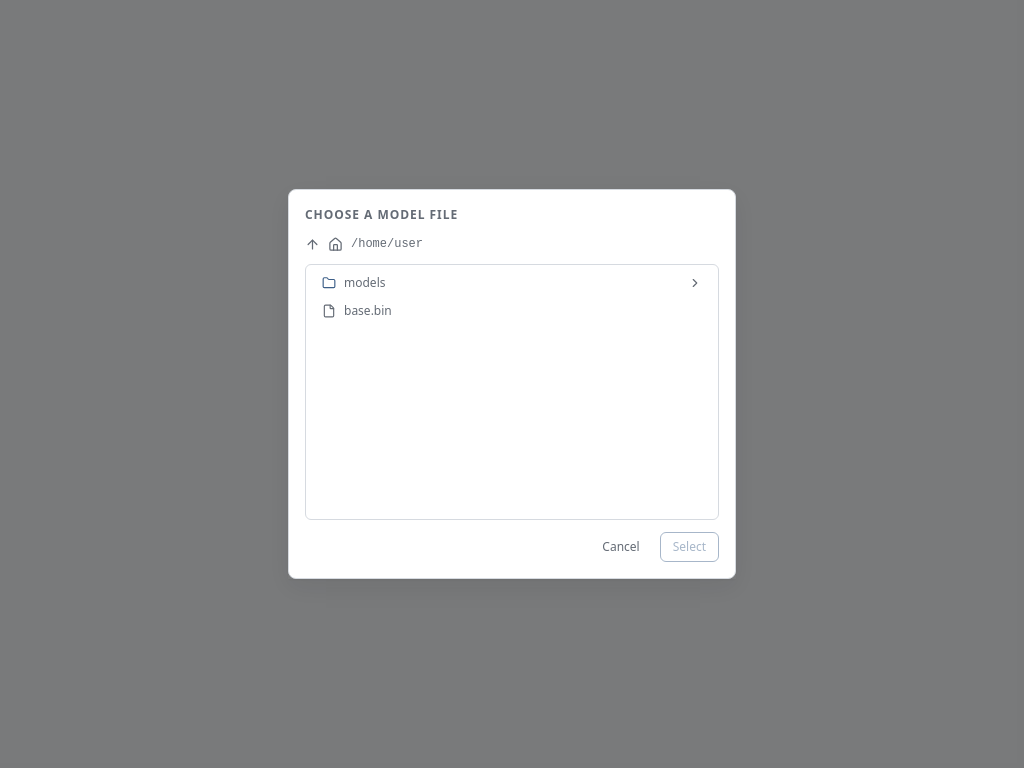
Test: FilePicker › returns to the home directory with the Home button
Click the button "models". click: (365, 282)
box: [310,269,714,297]
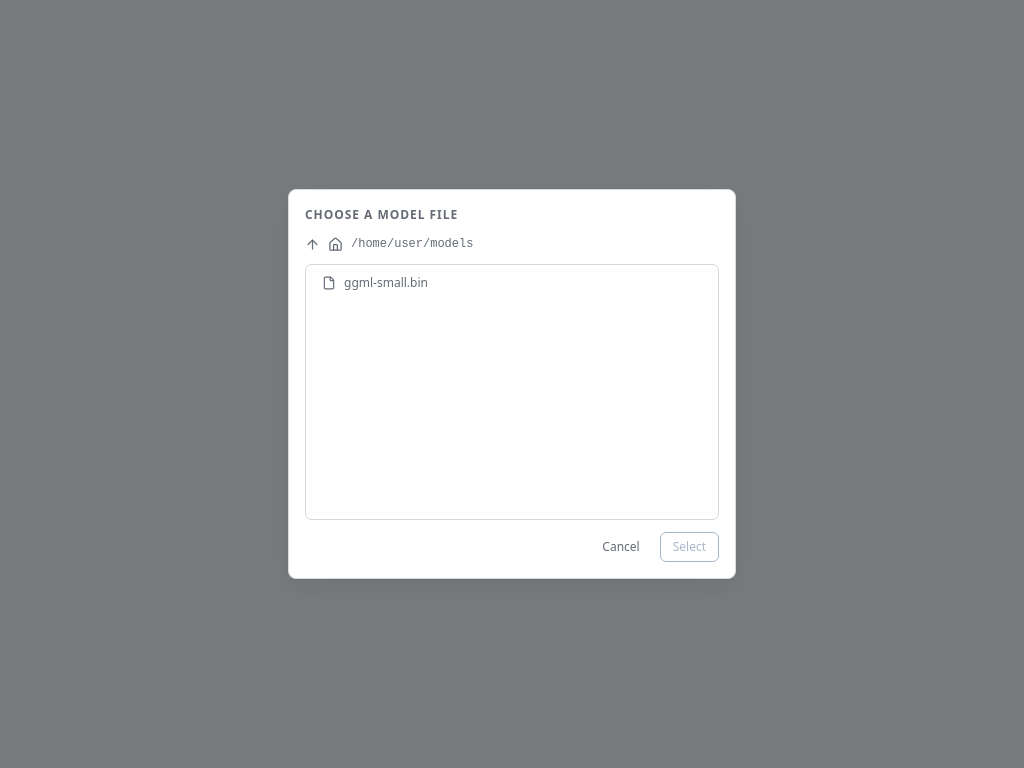
Check: the button "ggml-small.bin" is shown, box [310,269,714,297]
Click the button named "Home folder". click: (336, 244)
box: [328,236,343,252]
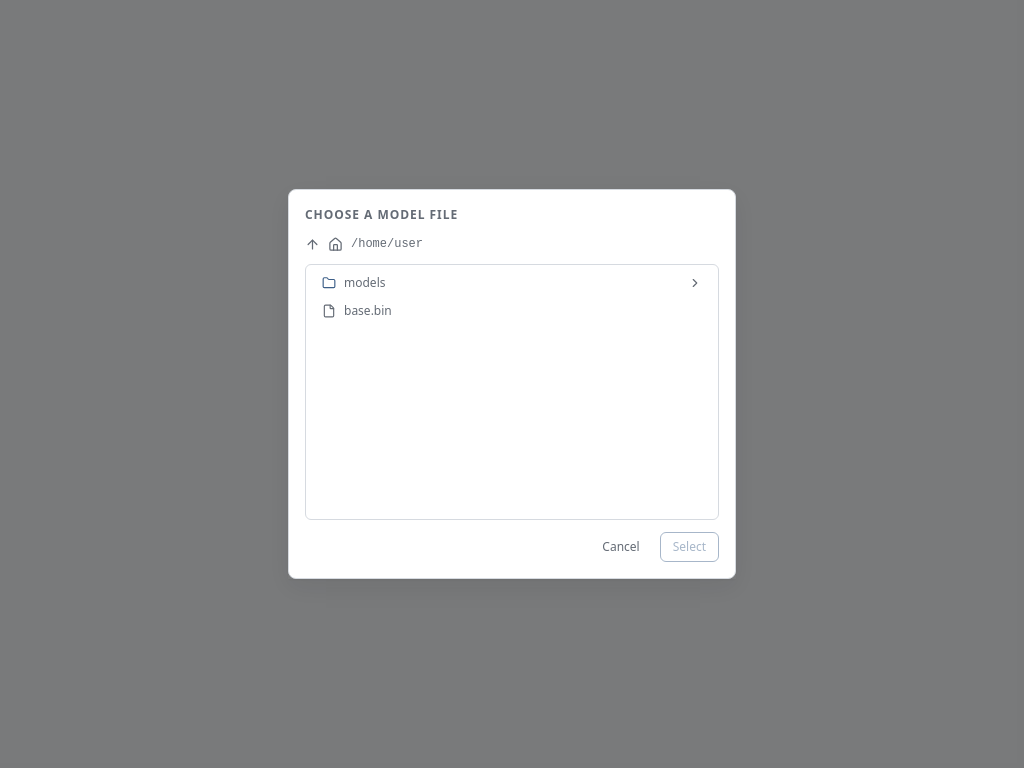
Check: the button "base.bin" is shown, box [310,297,714,325]
